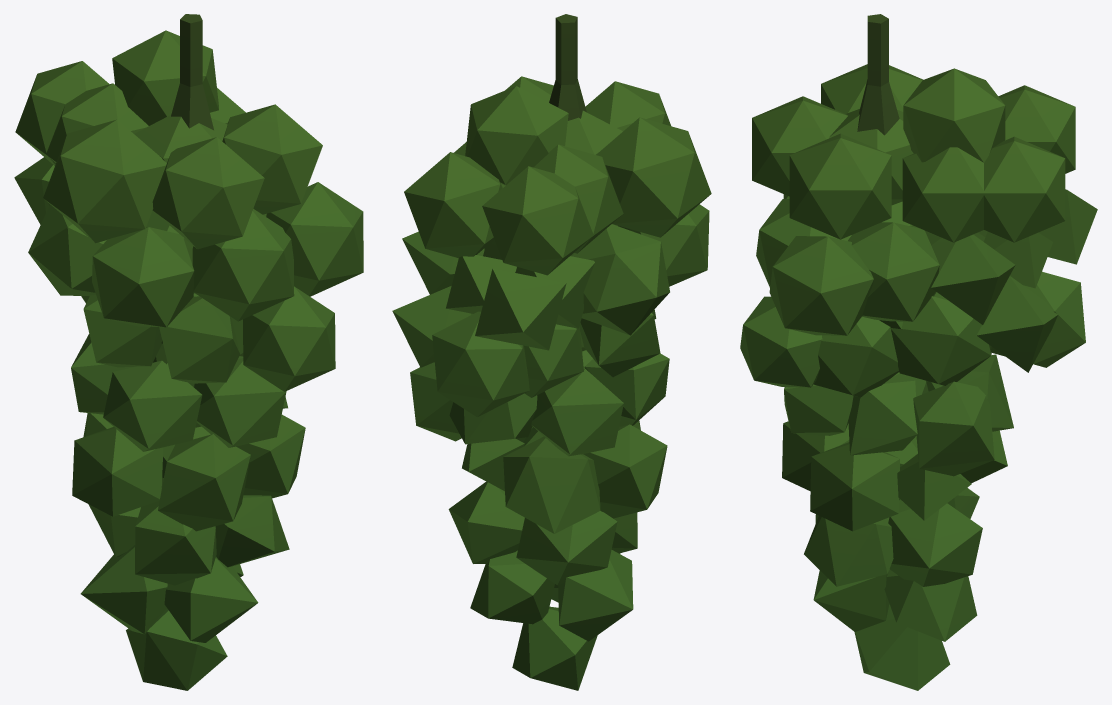
The model's file is Grape_01.fbx.
The picture shows the model from 3 angles, left to right: view 1: azimuth 30°, elevation 25°; view 2: azimuth 150°, elevation 25°; view 3: azimuth 270°, elevation 25°; orthographic projection. The views are drawn at different scales.
Visible parts, largest first — view 1: Grape_01; view 2: Grape_01; view 3: Grape_01.
Part boxes in pixels (bbox=[...]): Grape_01: bbox=[14, 14, 363, 690]; Grape_01: bbox=[392, 14, 711, 690]; Grape_01: bbox=[740, 14, 1097, 690].
Bounding box in the file's own units: 0.1448 × 0.3379 × 0.1649.
